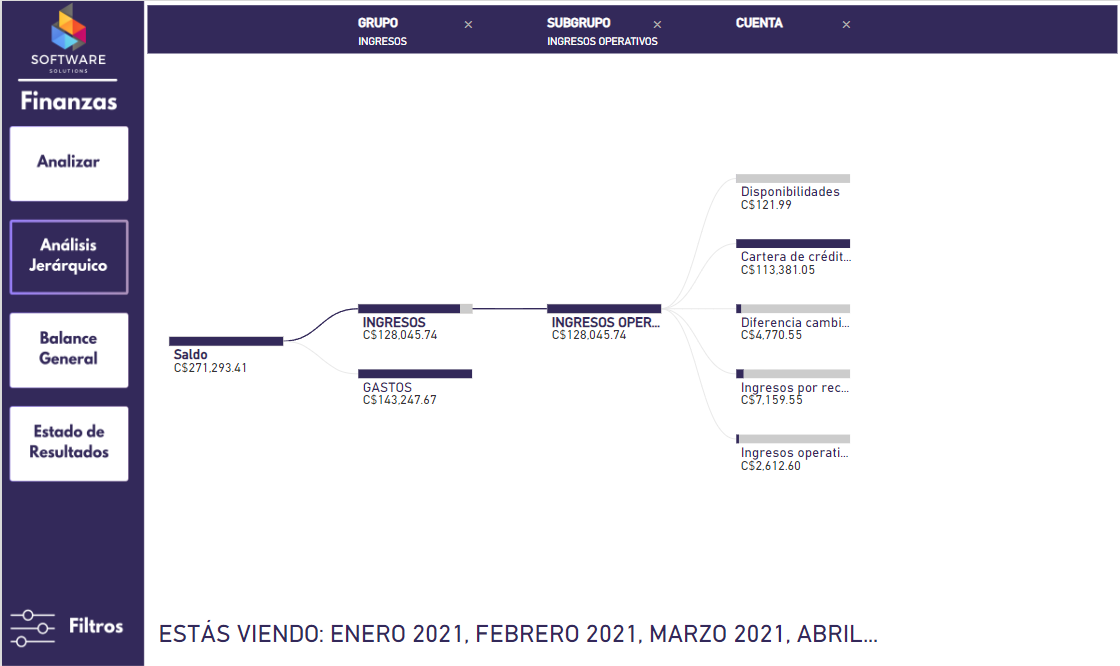

Layout of this report page (visuals, bound fields, positions):
{"tool":"powerbi","page":{"name":"Análisis Jerarquico","canvas":[1280,760],"ordinal":3},"visuals":[{"type":"actionButton","title":"Button - Analizar","box":[8.6,143.9,137.7,84.8],"z":0},{"type":"actionButton","title":"Button - Análisis Jerárquico","box":[7.4,250.8,137.7,84.8],"z":2000},{"type":"actionButton","title":"Button - Balance General","box":[8.8,356.5,137.7,84.8],"z":3000},{"type":"actionButton","title":"Button - Estado de Resultados","box":[8.8,462.2,137.7,84.8],"z":4000},{"type":"actionButton","title":"Button - MOSTRAR FILTROS","box":[6.7,683.3,138.3,65.8],"z":6000},{"type":"decompositionTreeVisual","title":"Árbol Jerárquico - Sin Panel","fields":{"ExplainBy":["Catelogo de Cuentas.GRUPO","Catelogo de Cuentas.SUBGRUPO","Catelogo de Cuentas.CUENTA"],"Analyze":["Tabla de Metricas.Saldo"]},"box":[161.4,0,1118.6,760],"z":7000},{"type":"cardVisual","title":"Card - Mes","fields":{"Data":["Tabla de Metricas.Etiqueta mes"]},"box":[161.2,678.8,867.5,81.2],"z":8000}]}

Visuals, with their boxes in screenshot pixels (x1, y1, x2, y2), scaled from the page's 1280x760 canvas onto the 1120x666 screenshot:
"Button - Analizar" actionButton: 8,126,128,200
"Button - Análisis Jerárquico" actionButton: 6,220,127,294
"Button - Balance General" actionButton: 8,312,128,387
"Button - Estado de Resultados" actionButton: 8,405,128,479
"Button - MOSTRAR FILTROS" actionButton: 6,599,127,656
"Árbol Jerárquico - Sin Panel" decompositionTreeVisual: 141,0,1119,665
"Card - Mes" cardVisual: 141,595,900,665
